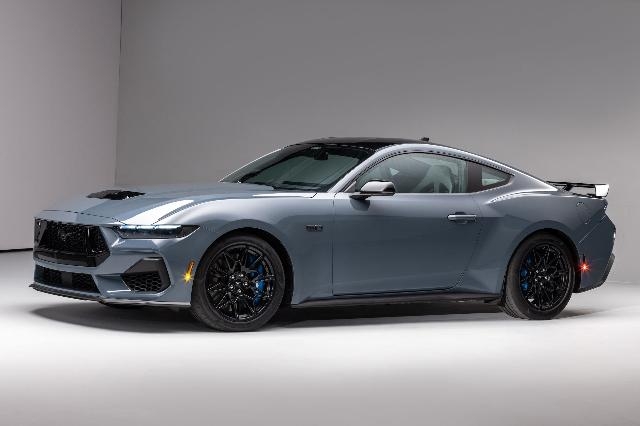ford-mustang: (28, 136, 616, 333)
